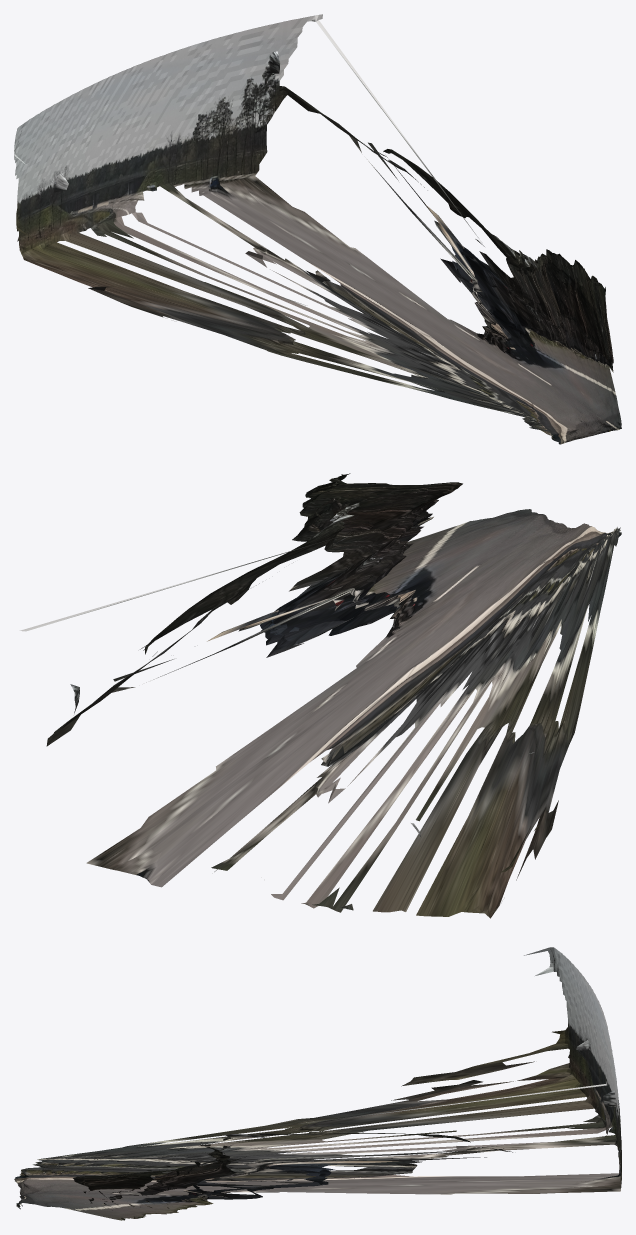
3 renders of one model, top to bottom at view 1: azimuth 30°, elevation 25°; view 2: azimuth 150°, elevation 25°; view 3: azimuth 270°, elevation 25°, orthographic. The views are drawn at different scales.
Parts seen in each view (by area): view 1: defaultobject; view 2: defaultobject; view 3: defaultobject.
Boxes of the visible parts, x1,y1,x2,y2 form: defaultobject: (14,14,621,444); defaultobject: (19,473,621,918); defaultobject: (14,947,621,1220).
Size of the model in its own units: 27.33 by 11.67 by 44.59.
Materials: 1 (1 with a texture image).
